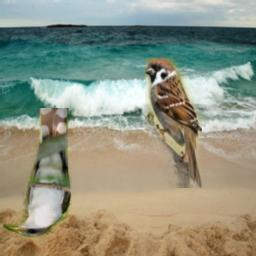Cuckoo: (3, 108, 72, 238)
Sparrow: (145, 58, 202, 188)
